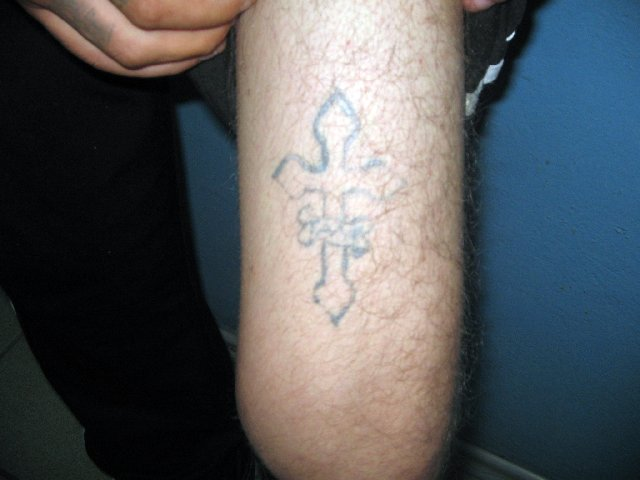tatu9_krest: (277, 84, 417, 327)
